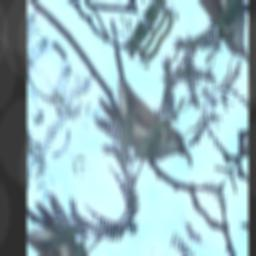Cuckoo: (67, 11, 211, 201)
